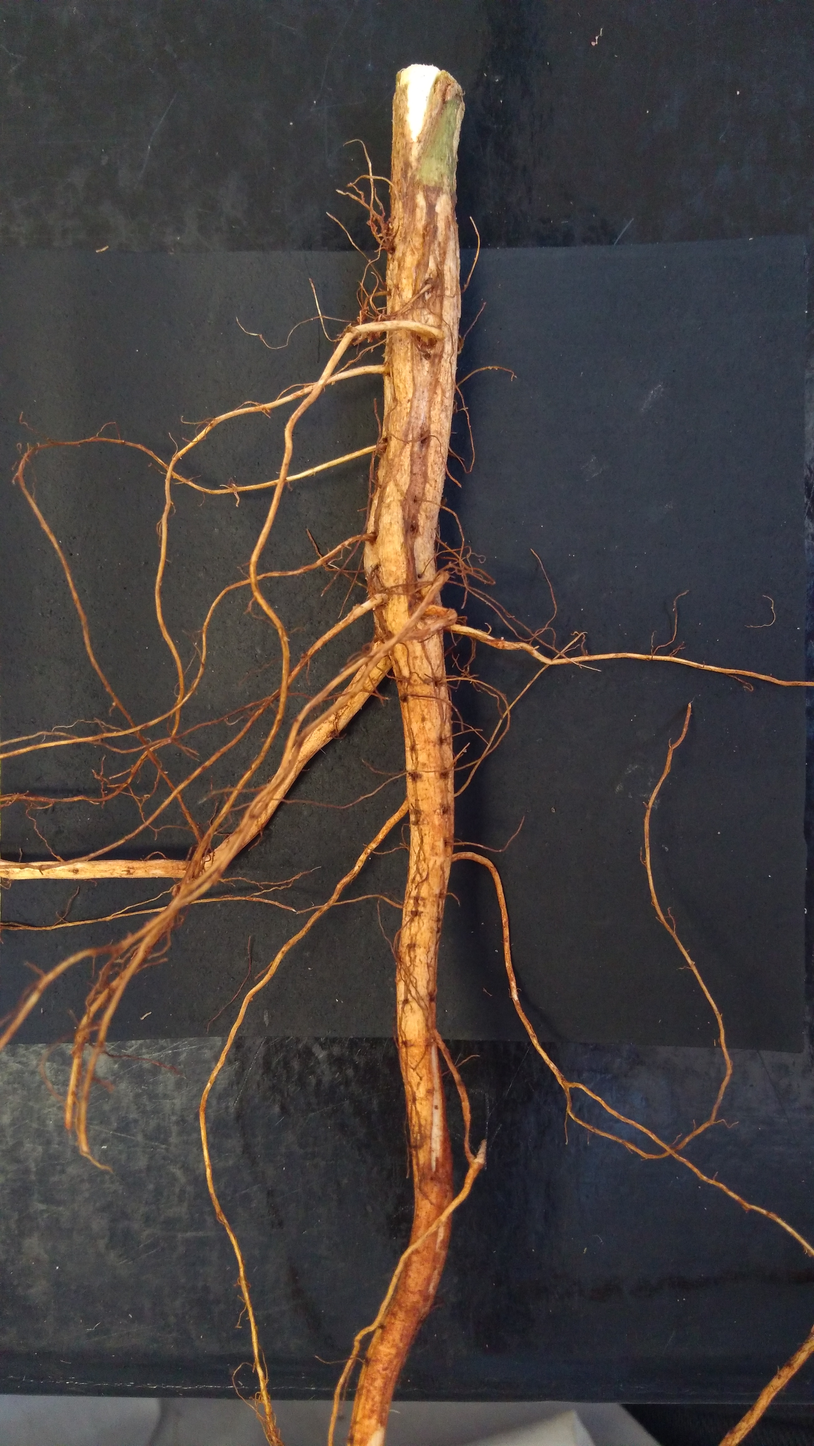nodule: (406, 307, 445, 355), (366, 319, 383, 342), (342, 325, 361, 342), (356, 306, 369, 324), (457, 332, 463, 355), (388, 221, 395, 229), (366, 220, 372, 226), (388, 217, 393, 222), (500, 636, 505, 641)
